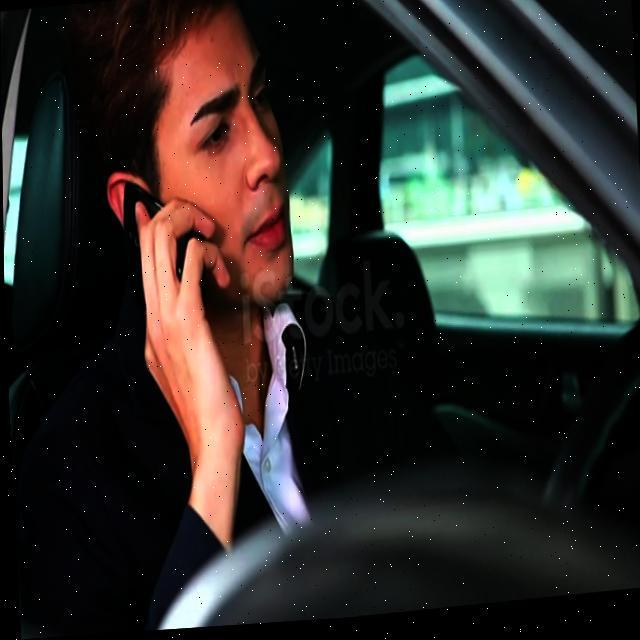PhoneCall: (118, 175, 205, 308)
